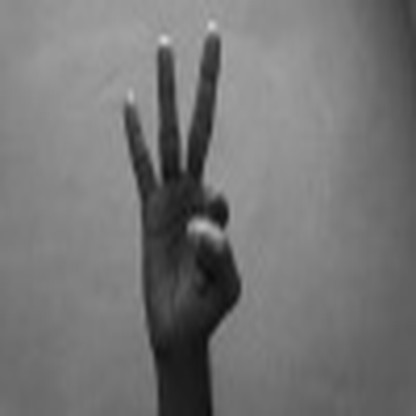f: (102, 17, 252, 343)
